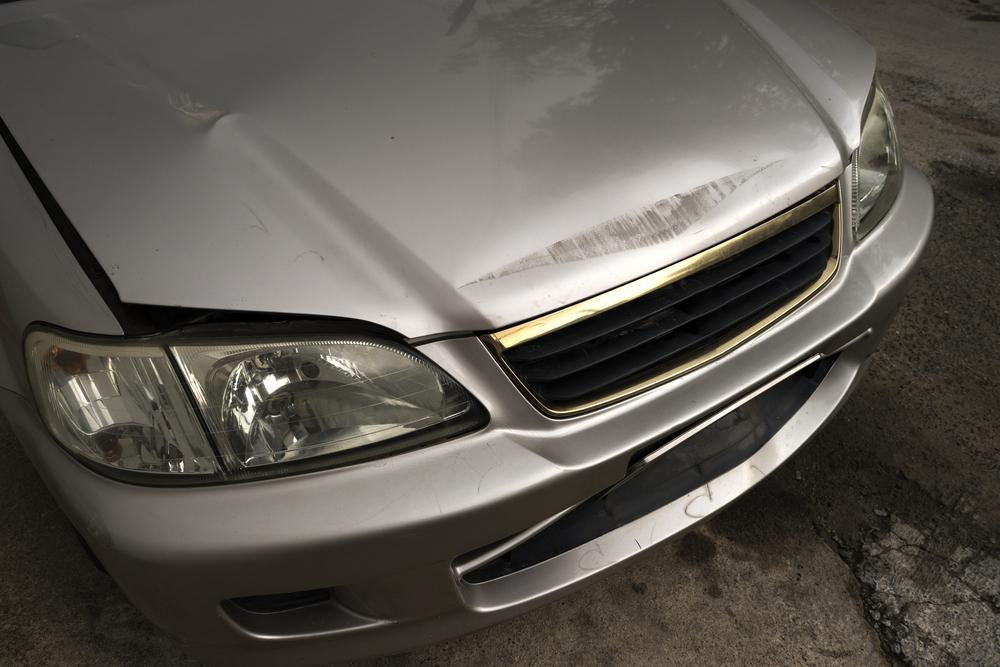dent: (462, 154, 787, 287)
